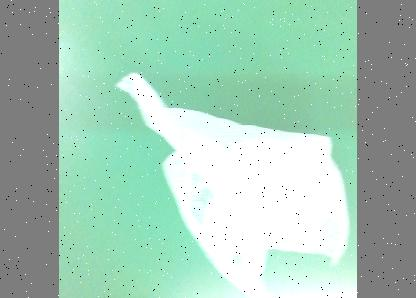Others: (113, 70, 351, 298)
